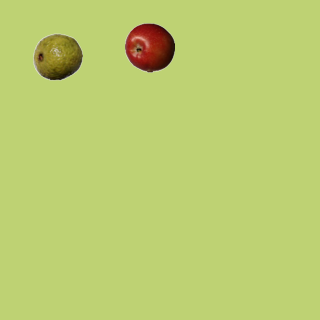Apple Braeburn: (124, 22, 174, 72)
Guava: (32, 31, 82, 81)
